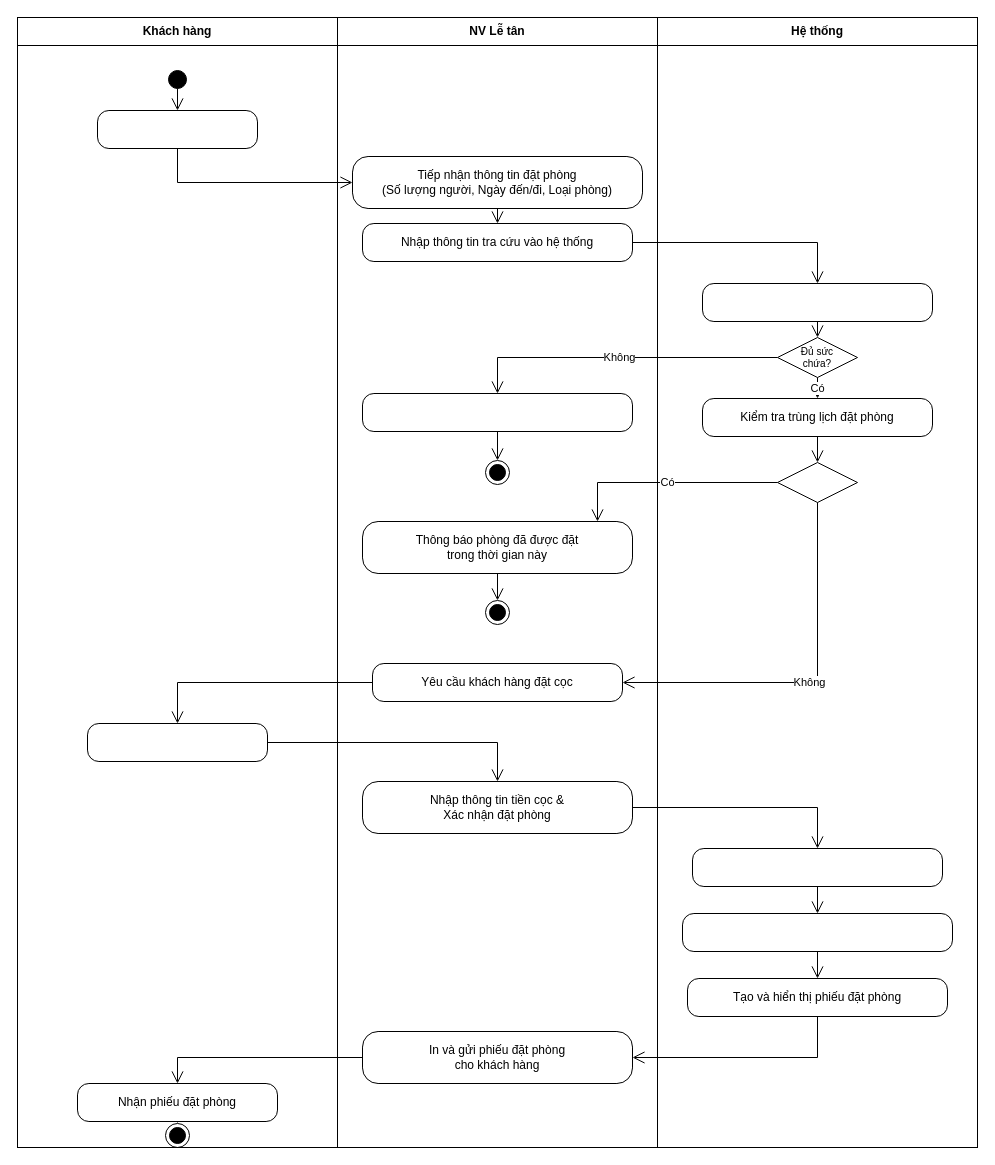
Image size: 995x1165. Some labels were removed from this diagram. The box of each missing label's shape, as (x1, y1, x2, y2) in pixels:
Bị trùng lịch?: (776, 462, 858, 502)
Cập nhật trạng thái phiếu -> "Đã đặt": (682, 912, 952, 952)
Kiểm tra sức chứa của phòng: (702, 282, 932, 322)
Lưu thông tin Phiếu đặt phòng: (692, 848, 942, 886)
Thanh toán tiền cọc: (86, 722, 268, 762)
Thông báo vượt quá sức chứa tối đa: (362, 392, 632, 432)
Yêu cầu đặt phòng: (96, 110, 258, 148)
